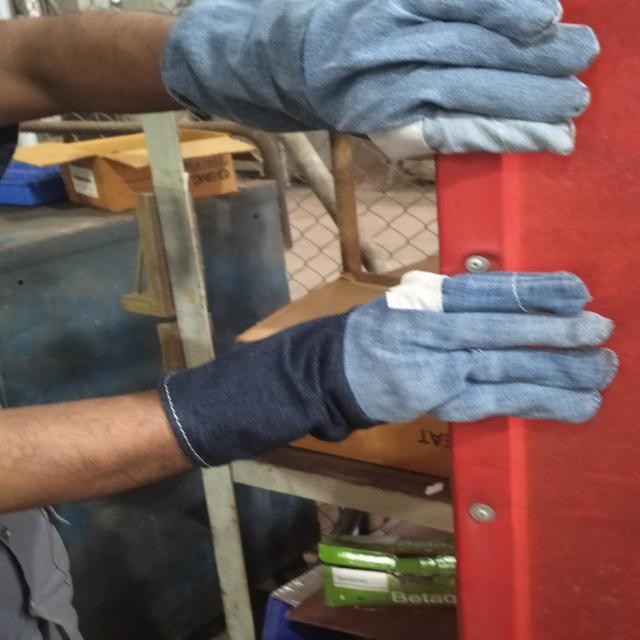Gloves-Detection: (147, 271, 632, 445), (161, 0, 599, 175)
